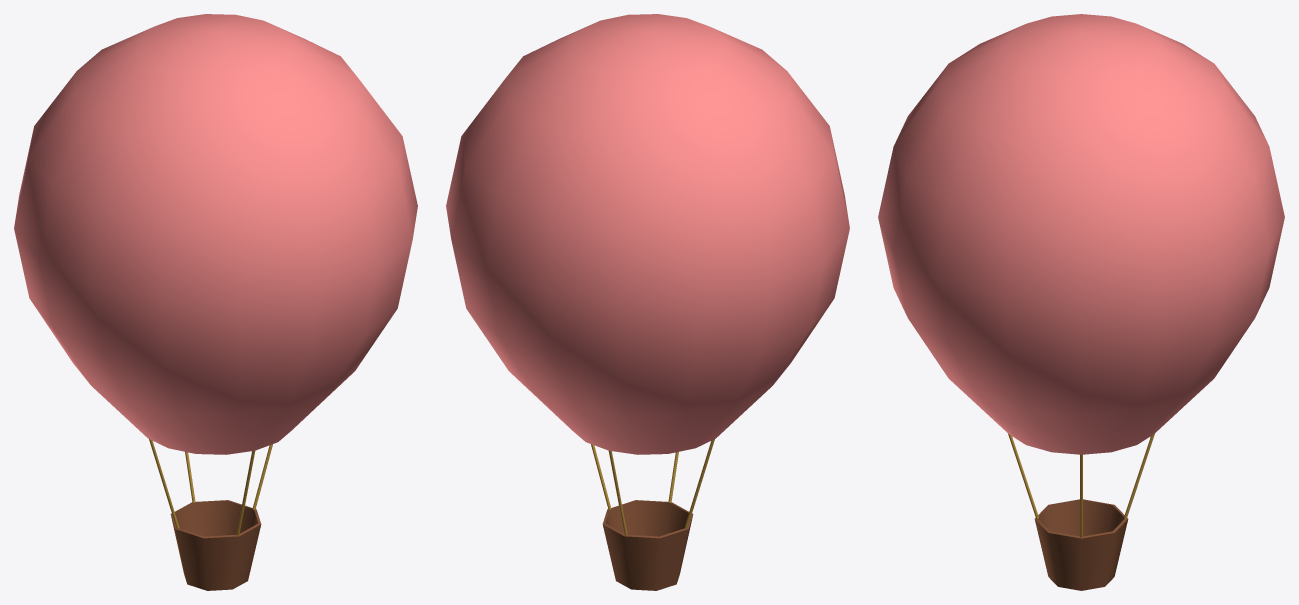
The model's file is Lv2_FB_Attacker.FBX.
The picture shows the model from 3 angles, left to right: view 1: azimuth 30°, elevation 25°; view 2: azimuth 150°, elevation 25°; view 3: azimuth 270°, elevation 25°; orthographic projection.
Visible parts, largest first — view 1: Sphere001, Cylinder001, Line003; view 2: Sphere001, Cylinder001, Line003; view 3: Sphere001, Cylinder001, Line003.
Boxes of the visible parts, x1,y1,x2,y2 form: Sphere001: (14,14,417,454); Cylinder001: (170,500,261,590); Line003: (149,439,272,535); Sphere001: (446,14,849,454); Cylinder001: (602,500,693,590); Line003: (591,439,714,535); Sphere001: (878,14,1284,454); Cylinder001: (1034,499,1128,590); Line003: (1008,434,1154,537).
Bounding box in the file's own units: 130 × 192 × 130.
